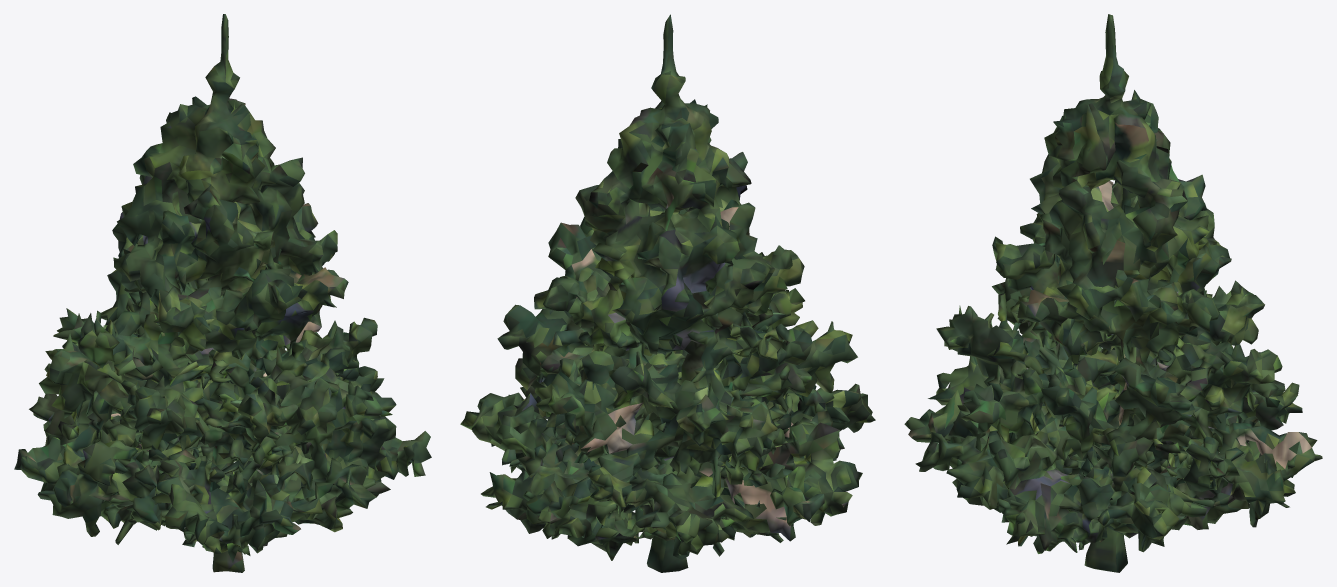
The model's file is AI_CompactSpruceTree.fbx.
3 renders of one model, left to right at view 1: azimuth 30°, elevation 25°; view 2: azimuth 150°, elevation 25°; view 3: azimuth 270°, elevation 25°, orthographic.
Parts seen in each view (by area): view 1: Mesh_0; view 2: Mesh_0; view 3: Mesh_0.
Boxes of the visible parts, bbox=[...] form: Mesh_0: bbox=[14, 14, 431, 572]; Mesh_0: bbox=[460, 14, 875, 572]; Mesh_0: bbox=[904, 14, 1322, 572].
Bounding box in the file's own units: 141 × 204 × 140.
